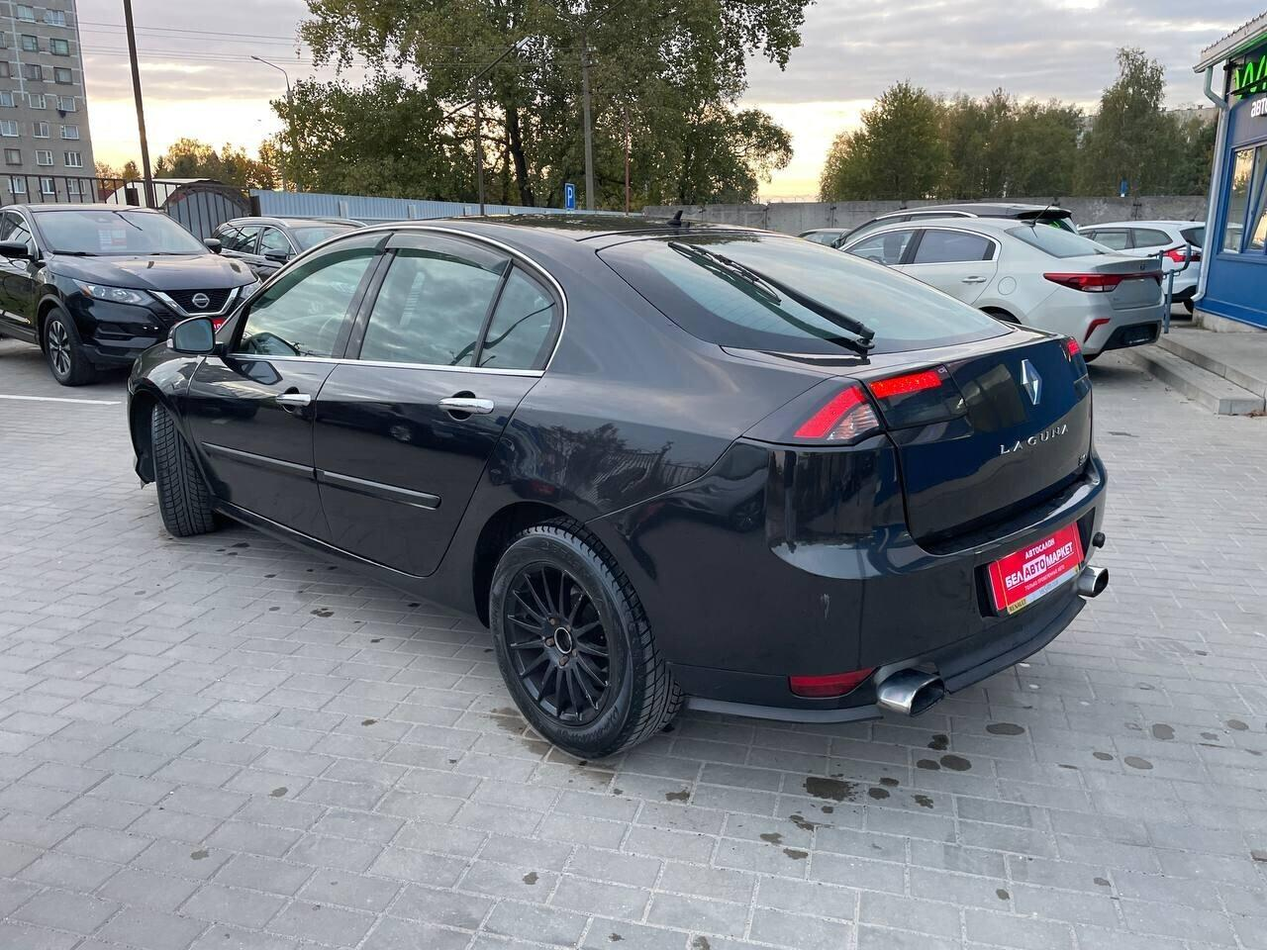Laguna_2010-2015: (121, 209, 1112, 767)
